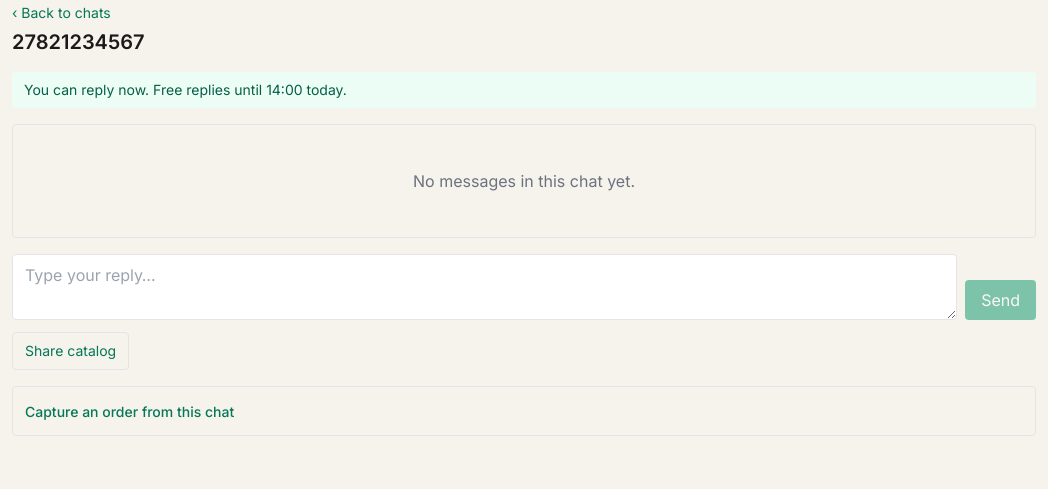
it: ThreadPage › a blocked send (409) removes the optimistic bubble and shows plain copy
This screenshot has width=1048, height=489.
Type "Hi" into the text box with placeholder "Type your reply…".
click(485, 287); type("Hi")  # box [12, 254, 957, 320]
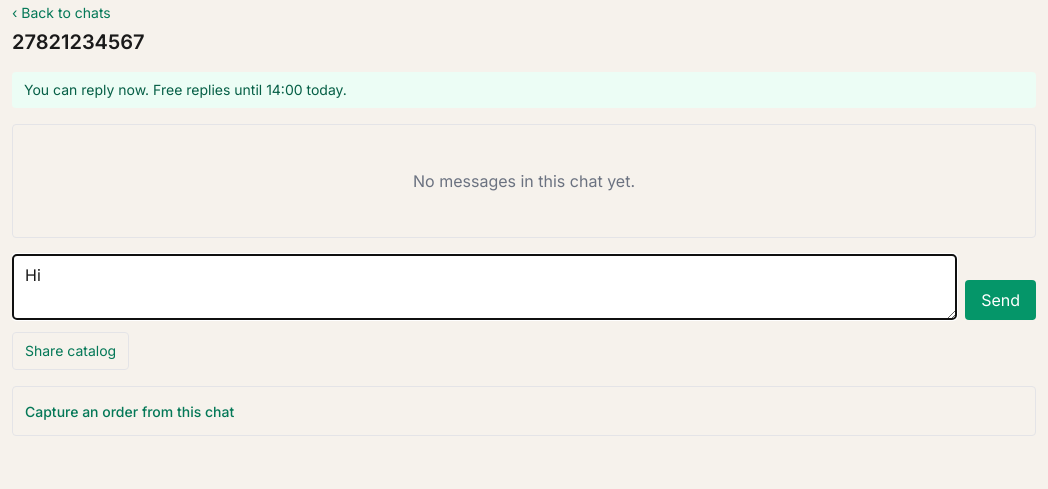
Click the button "Send".
click(1001, 300)  # box [965, 280, 1036, 320]
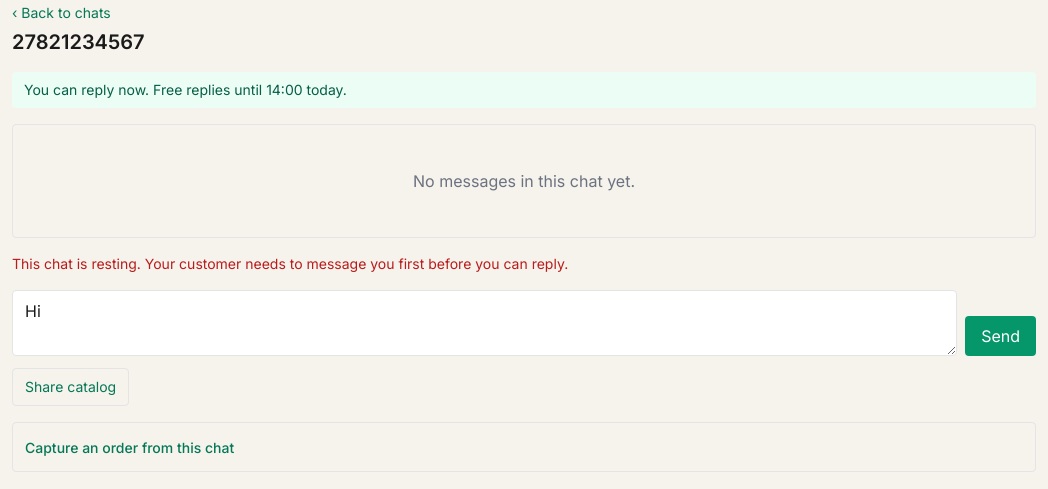
Check: the text "No messages in this chat yet." is shown, box [413, 171, 635, 191]
Check: the 2nd message shows "resting", box [12, 255, 568, 272]
